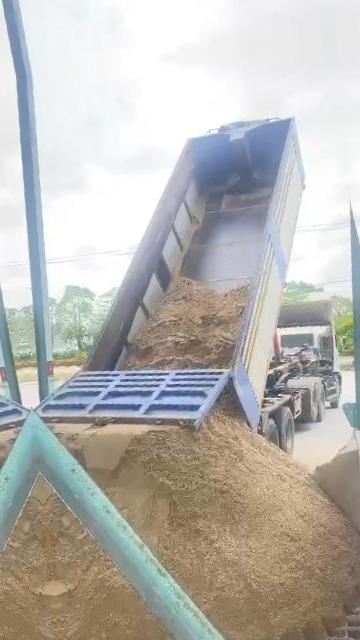sand: (60, 411, 360, 640), (44, 494, 192, 640), (121, 279, 249, 369), (314, 440, 360, 530), (215, 378, 245, 421)
